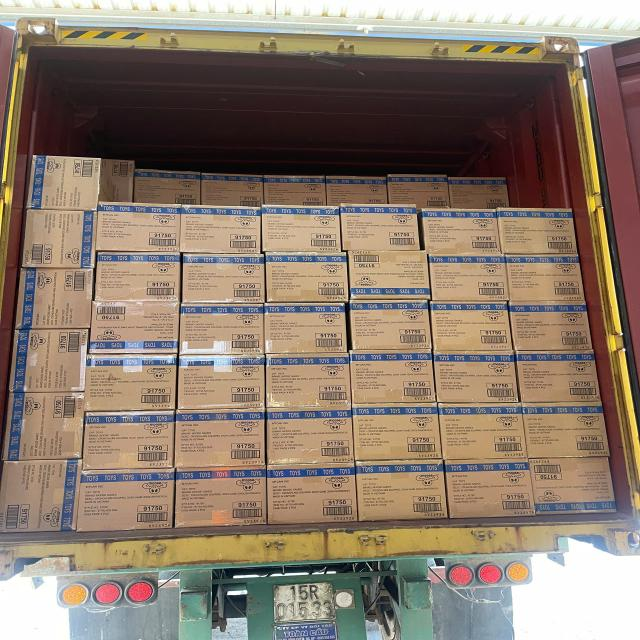Carton: (75, 472, 174, 533), (0, 462, 76, 535), (83, 352, 176, 411), (177, 411, 268, 471), (3, 394, 82, 463), (355, 462, 444, 523), (177, 471, 269, 530), (81, 412, 174, 469), (448, 458, 533, 519), (267, 470, 355, 528), (352, 405, 439, 462), (267, 410, 354, 467), (179, 353, 267, 409), (91, 300, 182, 354), (16, 330, 90, 396), (441, 404, 526, 460), (266, 354, 352, 408), (14, 268, 90, 329), (31, 152, 105, 214), (526, 403, 609, 458), (533, 458, 613, 515), (20, 207, 92, 268), (183, 255, 267, 307), (266, 255, 350, 307), (97, 257, 184, 306), (353, 352, 437, 402), (519, 352, 601, 403), (97, 206, 184, 254), (348, 252, 428, 304), (348, 304, 430, 354), (432, 353, 514, 403), (429, 303, 510, 353), (180, 310, 266, 357), (513, 303, 593, 353), (265, 311, 349, 357), (182, 208, 264, 254), (429, 257, 507, 303), (263, 208, 342, 253), (507, 258, 584, 303), (421, 213, 501, 256), (340, 208, 418, 251), (501, 212, 579, 255)
